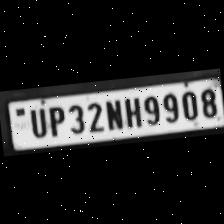0: (177, 86, 200, 120)
2: (84, 98, 106, 134)
3: (64, 100, 85, 134)
8: (196, 84, 219, 119)
9: (140, 90, 162, 126), (158, 89, 179, 123)
H: (121, 94, 143, 128)
N: (101, 96, 123, 130)
P: (44, 103, 67, 137)
U: (24, 104, 48, 138)
